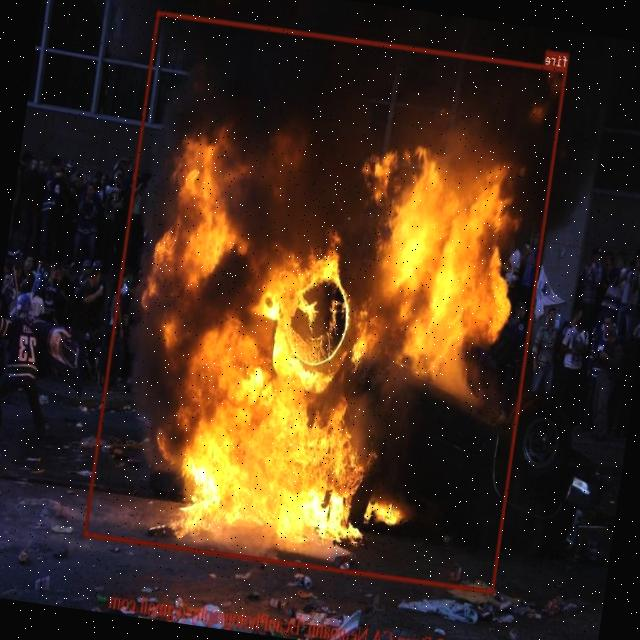fire: (84, 11, 568, 594)
